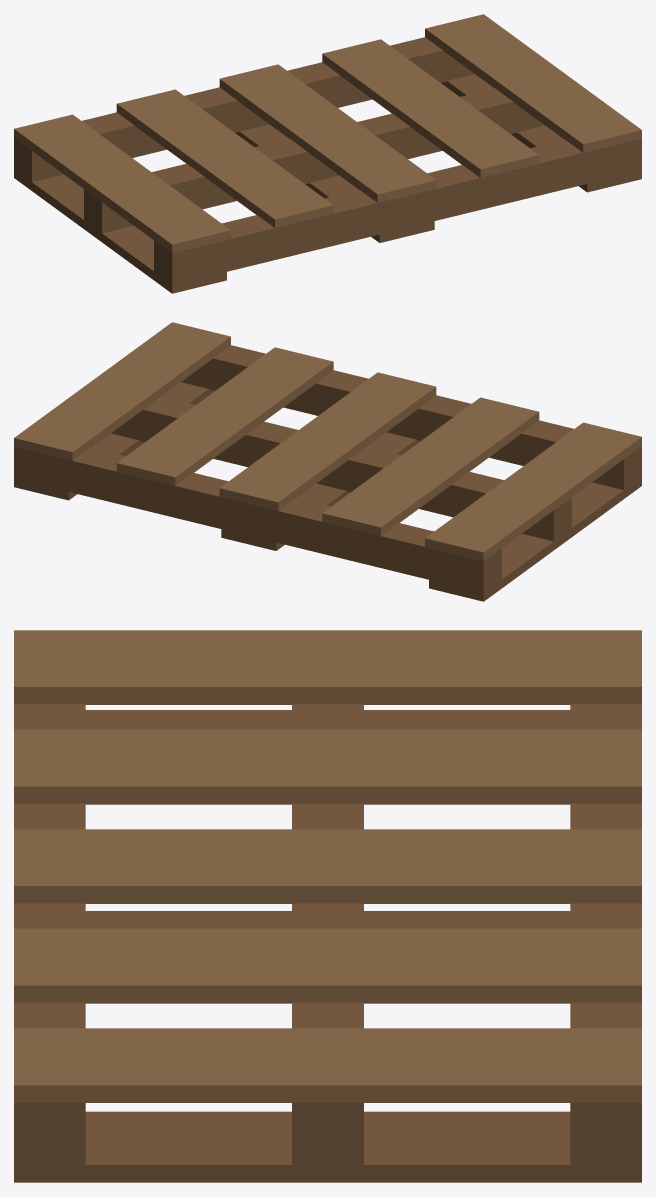
Rendered from palette_rayonnage.glb.
The picture shows the model from 3 angles, top to bottom: view 1: azimuth 30°, elevation 25°; view 2: azimuth 150°, elevation 25°; view 3: azimuth 270°, elevation 25°; orthographic projection. The views are drawn at different scales.
Visible parts, largest first — view 1: top, stringers, bottom; view 2: top, stringers, bottom; view 3: top, bottom, stringers.
Part boxes in pixels (x1,y1,x2,y2): top: (14, 14, 641, 253); stringers: (14, 37, 641, 284); bottom: (14, 74, 641, 293); top: (14, 322, 641, 561); stringers: (14, 345, 641, 592); bottom: (14, 382, 641, 601); top: (14, 630, 641, 1102); bottom: (14, 710, 641, 1182); stringers: (14, 704, 641, 1165).
Size of the model in its own units: 1.2 by 0.12 by 0.7.
Materials: 2 (2 with a texture image).
